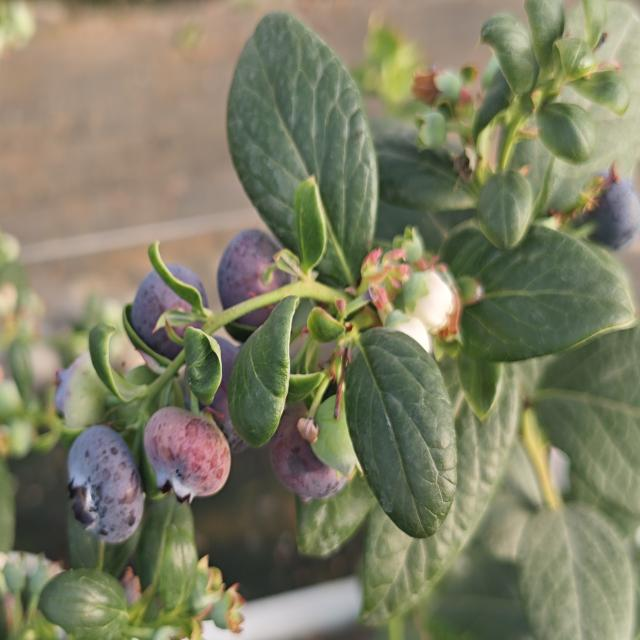ripe: (64, 422, 147, 547), (268, 394, 358, 506), (214, 226, 293, 342), (129, 262, 210, 364), (189, 340, 263, 448), (577, 161, 640, 251)
